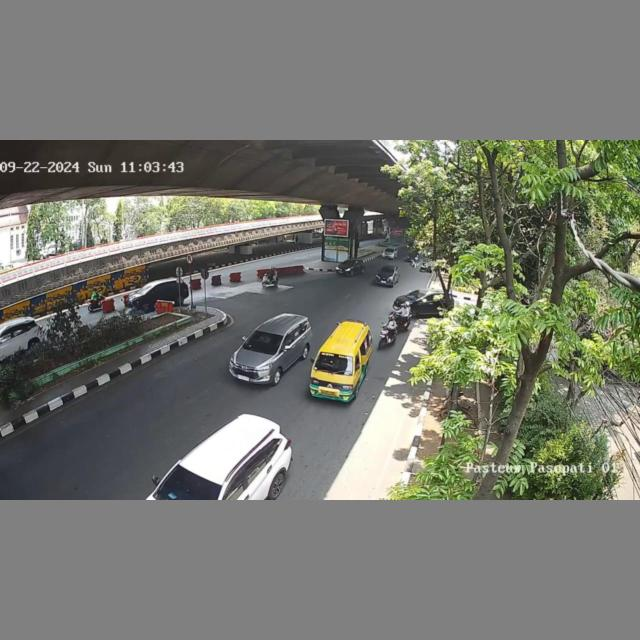windshield: (152, 469, 222, 500), (242, 328, 285, 350), (313, 353, 359, 373)
